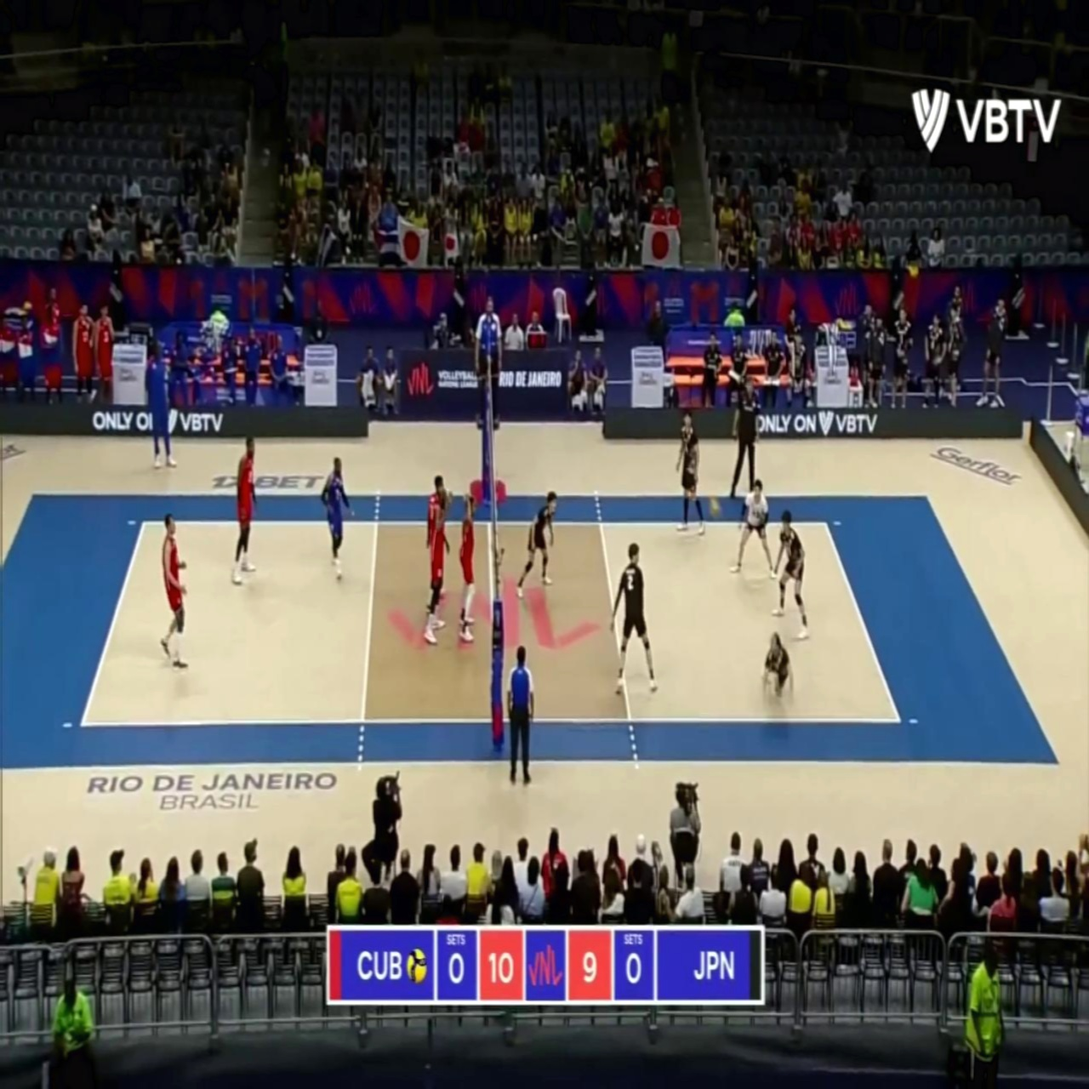ball: (708, 498, 720, 516)
